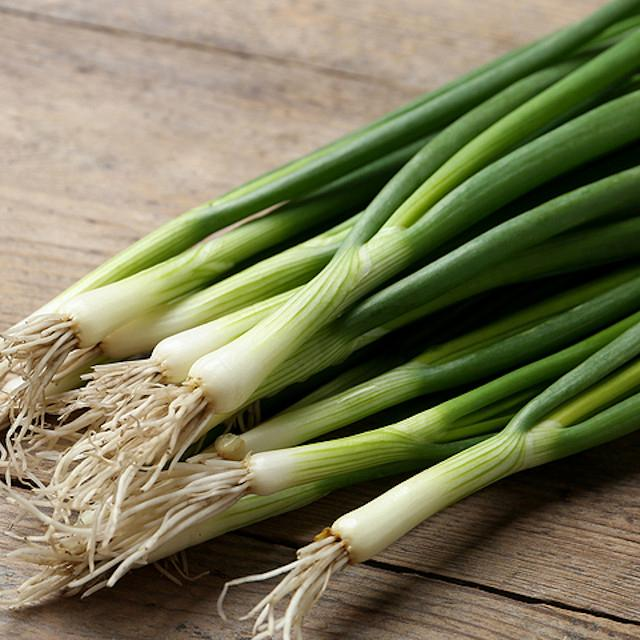green_onion: (0, 0, 640, 637), (0, 263, 640, 615), (41, 0, 640, 314), (0, 180, 376, 475), (100, 219, 355, 357), (151, 289, 299, 384)
